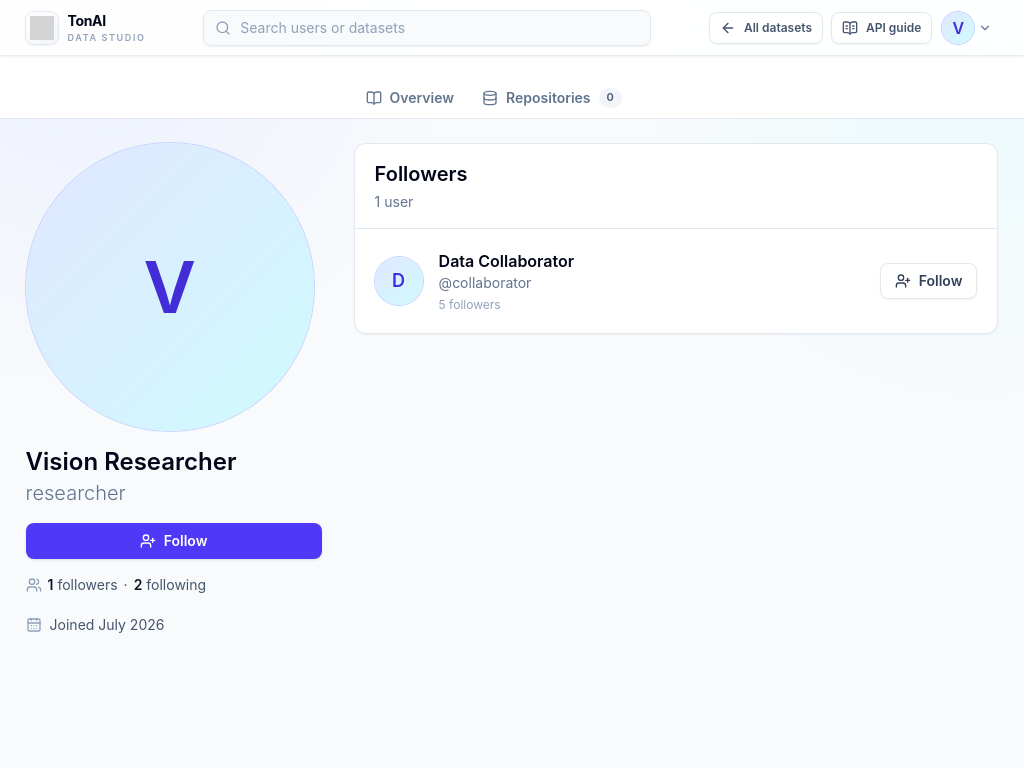
Test case: App › shows a user's followers and allows following from the list
Expected: the heading "Followers" is shown, [375,162,468,186]
Click the button with aria-label "Follow collaborator" at (929, 281), box [880,263,977,299]
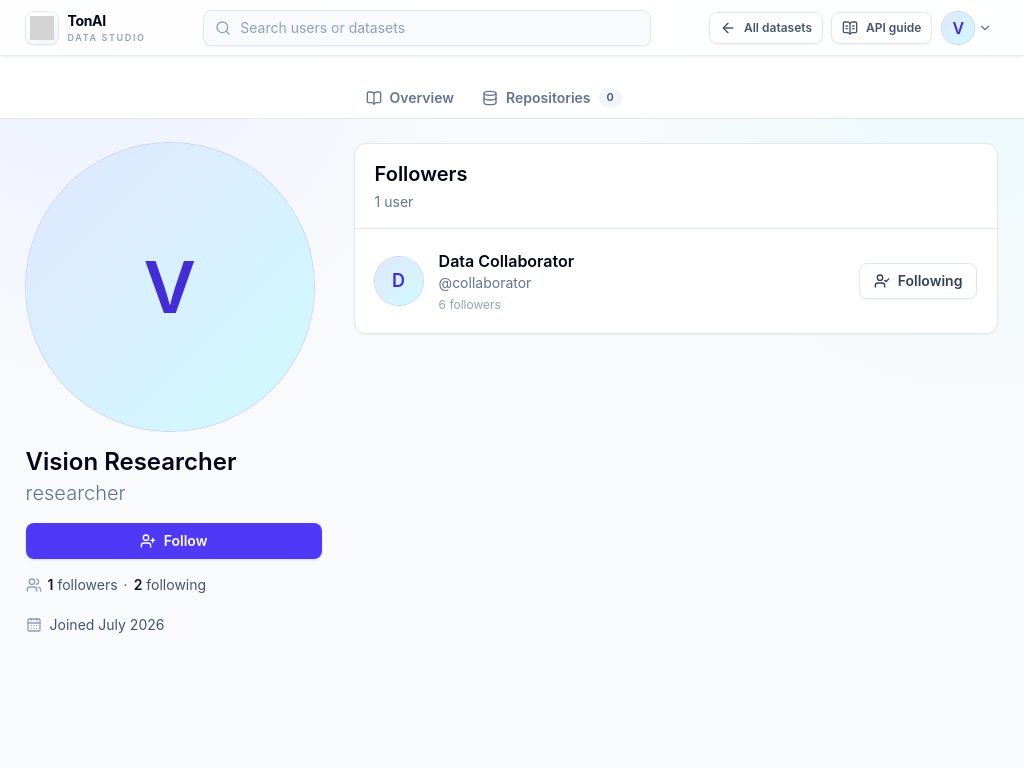
Result: the button with aria-label "Unfollow collaborator" is shown at [859,263,977,299]
